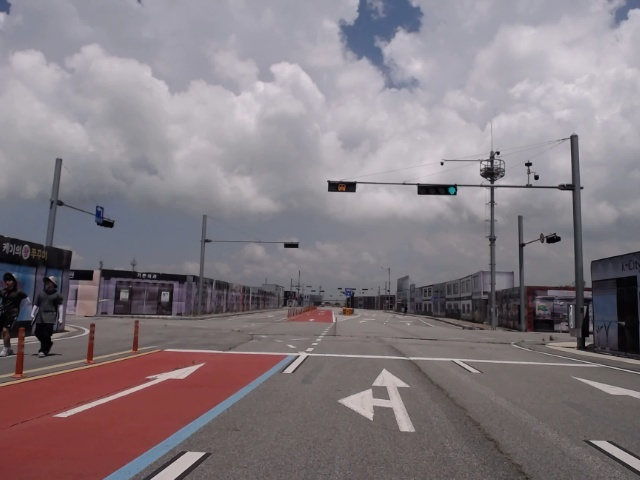straight_green_4: (417, 184, 460, 195)
